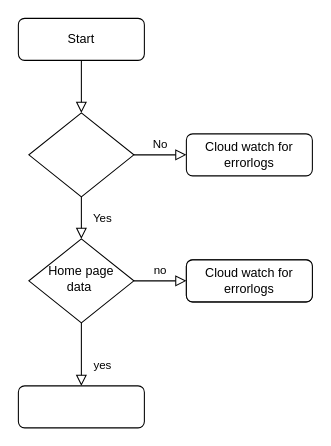
Image size: 331x446. Some labels were removed from this diagram. The box of each missing label's shape, as (x1, y1, x2, y2) in pixels:
end: (17, 385, 144, 428)
Merchant Login: (28, 112, 134, 197)
